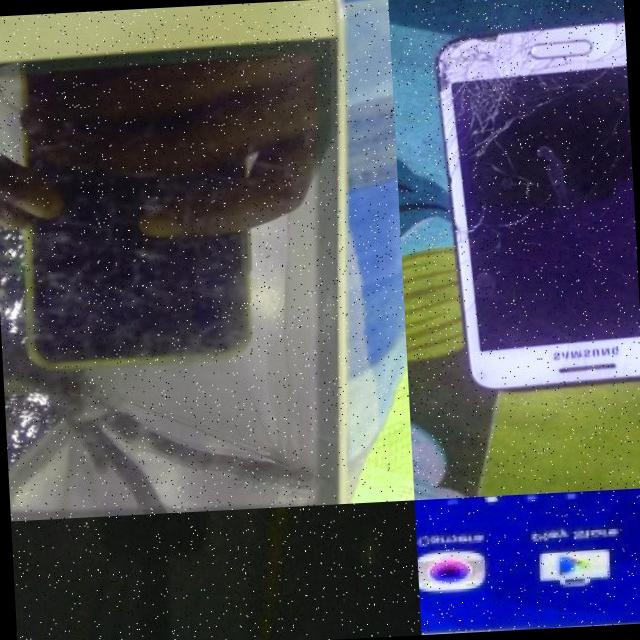screen crack: (108, 359, 328, 516), (428, 11, 632, 158), (0, 195, 75, 511)
